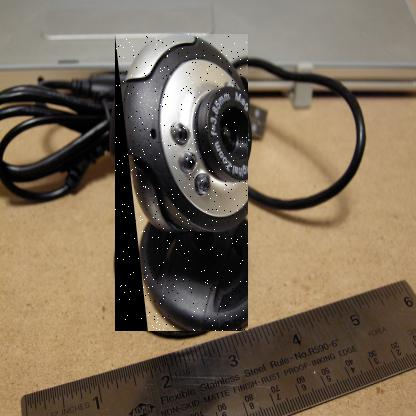Camera: (116, 35, 250, 333)
